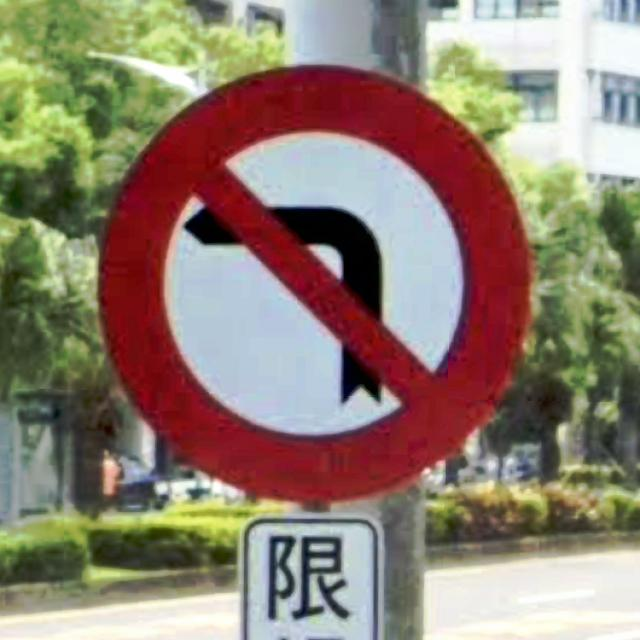noturnleft: (98, 65, 535, 506)
